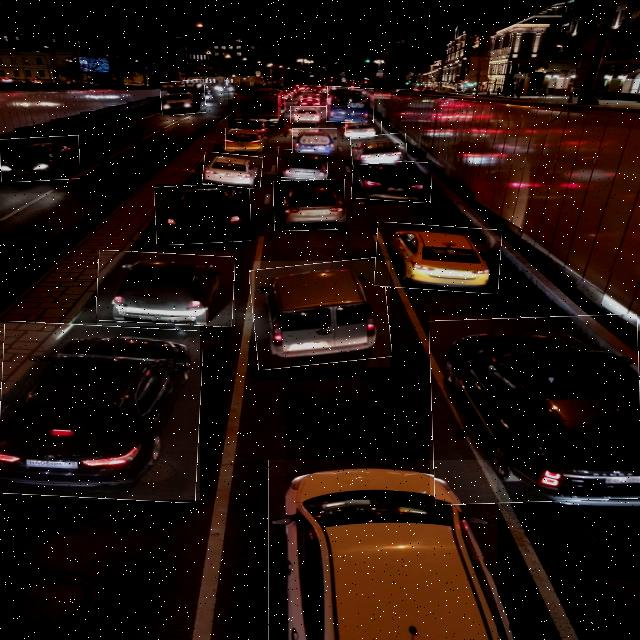Bus: (327, 87, 374, 122)
Car: (268, 460, 497, 640), (430, 316, 640, 504), (0, 323, 200, 500), (252, 261, 390, 367), (97, 252, 235, 326), (375, 224, 501, 292), (154, 184, 250, 244), (0, 136, 79, 181), (274, 180, 345, 230), (352, 160, 431, 202), (203, 154, 263, 188), (351, 134, 406, 164), (278, 150, 328, 180), (292, 128, 337, 153), (225, 128, 266, 150), (345, 119, 382, 137), (290, 106, 327, 123)
Truck: (228, 86, 284, 128), (160, 80, 206, 115)
